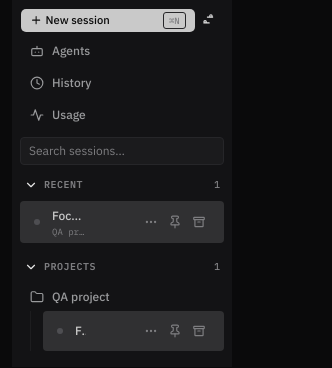
Scenario: SessionSidebar › collapses and expands sections on header click
The image size is (332, 368).
Expected: the element showing "Focused session QA project" is shown, [20,200,224,243]
What coordinates should you click on to do the following:
click the button with class "sec-head-toggle"
I would click on:
 (122, 182)
Its box is [12,168,232,196].
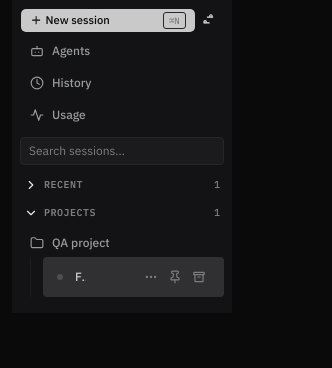
Expected: the button with class "sec-head-toggle" is collapsed, [12,168,232,196]
Note: With both sections collapsed no row is rendered anywhere.
What coordinates should you click on to do the following:
click the button with class "sec-head-toggle"
I would click on:
 (122, 210)
Its box is [12,196,232,224].
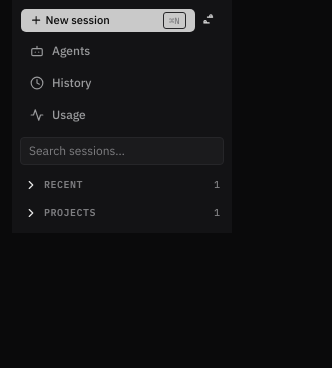
Note: Expanding RECENT brings its rows back.
What coordinates should you click on to do the following:
click the button with class "sec-head-toggle"
I would click on:
 (122, 182)
Its box is [12,168,232,196].
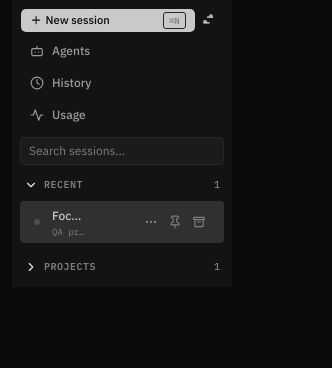
Expected: the element showing "Focused session QA project" is shown, [20,200,224,243]
